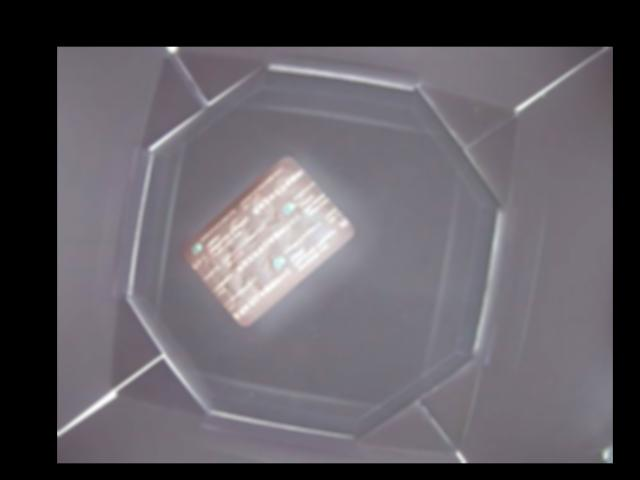Medicine: (183, 150, 354, 328)
